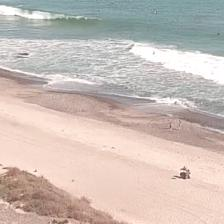surfer: (94, 9, 100, 12), (154, 12, 158, 15), (110, 2, 114, 5), (152, 51, 155, 55), (216, 33, 220, 35), (128, 0, 132, 2), (92, 0, 96, 1)
